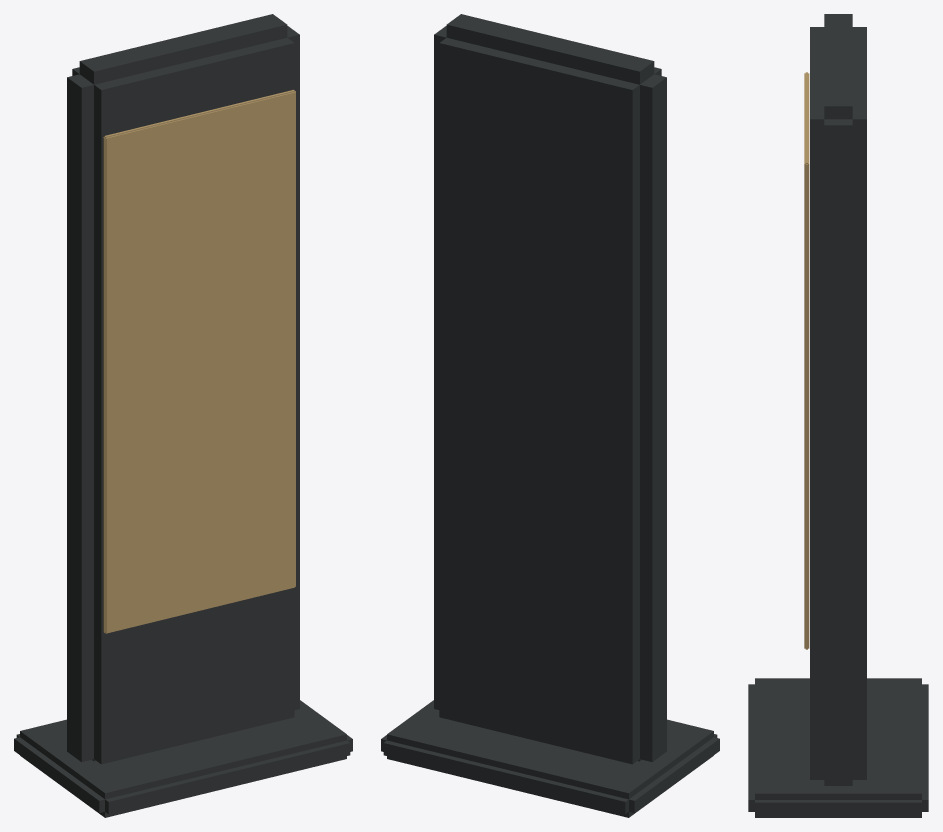
The model's file is digital_info_pylon.glb.
3 renders of one model, left to right at view 1: azimuth 30°, elevation 25°; view 2: azimuth 150°, elevation 25°; view 3: azimuth 270°, elevation 25°, orthographic. The views are drawn at different scales.
Parts seen in each view (by area): view 1: digital_info_pylon_Satin_champagne, digital_info_pylon_Anodised_graphite; view 2: digital_info_pylon_Anodised_graphite; view 3: digital_info_pylon_Anodised_graphite, digital_info_pylon_Satin_champagne.
Part boxes in pixels (x1,y1,x2,y2): digital_info_pylon_Satin_champagne: (103, 89, 295, 633); digital_info_pylon_Anodised_graphite: (14, 14, 352, 817); digital_info_pylon_Anodised_graphite: (381, 14, 719, 817); digital_info_pylon_Anodised_graphite: (748, 14, 928, 817); digital_info_pylon_Satin_champagne: (804, 72, 809, 649).
Bounding box in the file's own units: 0.86 × 2.32 × 0.54.
